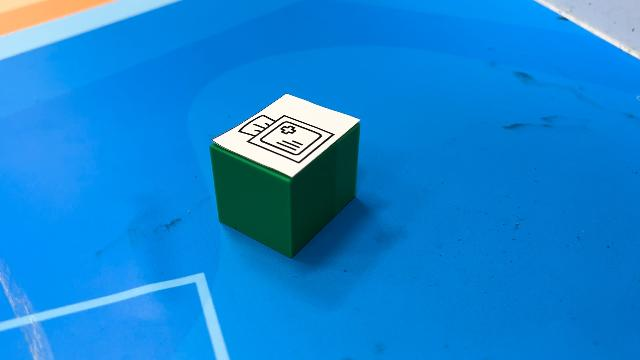napkin: (208, 92, 362, 258)
